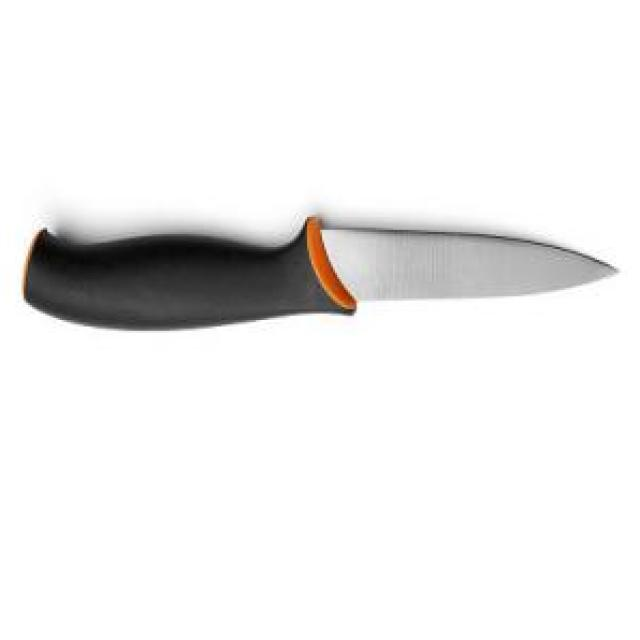knife: (21, 196, 625, 333)
